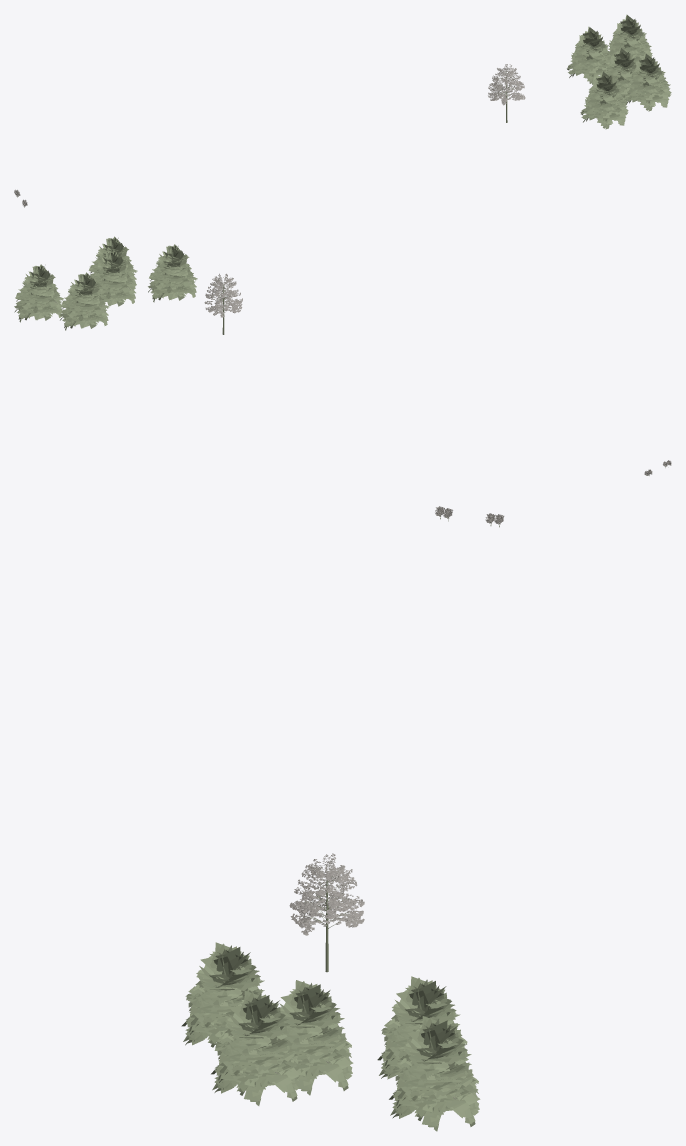
The picture shows the model from 3 angles, top to bottom: view 1: azimuth 30°, elevation 25°; view 2: azimuth 150°, elevation 25°; view 3: azimuth 270°, elevation 25°; orthographic projection. The views are drawn at different scales.
Visible parts, largest first — view 1: 3S6w54ZpD8e820L8Zlw6Dm, 3S6w54ZpD8e820L8Zlw6C5, 3S6w54ZpD8e820L8Zlw6CV, 3S6w54ZpD8e820L8Zlw6Ci, 2V5Ut_YCT7bAmkMG0b2KCv, 3S6w54ZpD8e820L8Zlw6CA; view 2: 3S6w54ZpD8e820L8Zlw6Dm, 3S6w54ZpD8e820L8Zlw6CV, 3S6w54ZpD8e820L8Zlw6Ci, 3S6w54ZpD8e820L8Zlw6CA, 2V5Ut_YCT7bAmkMG0b2KCv, 3S6w54ZpD8e820L8Zlw6C5; view 3: 3S6w54ZpD8e820L8Zlw6Ci, 3S6w54ZpD8e820L8Zlw6C5, 3S6w54ZpD8e820L8Zlw6CA, 3S6w54ZpD8e820L8Zlw6Dm, 2V5Ut_YCT7bAmkMG0b2KCv, 3S6w54ZpD8e820L8Zlw6CV.
Boxes of the visible parts, <box> form: 3S6w54ZpD8e820L8Zlw6Dm: <box>580,71,628,129</box>; 3S6w54ZpD8e820L8Zlw6C5: <box>624,53,671,111</box>; 3S6w54ZpD8e820L8Zlw6CV: <box>567,26,611,84</box>; 3S6w54ZpD8e820L8Zlw6Ci: <box>608,14,652,62</box>; 2V5Ut_YCT7bAmkMG0b2KCv: <box>488,64,525,122</box>; 3S6w54ZpD8e820L8Zlw6CA: <box>605,48,640,104</box>; 3S6w54ZpD8e820L8Zlw6Dm: <box>148,244,197,302</box>; 3S6w54ZpD8e820L8Zlw6CV: <box>60,272,109,330</box>; 3S6w54ZpD8e820L8Zlw6Ci: <box>14,264,63,322</box>; 3S6w54ZpD8e820L8Zlw6CA: <box>91,250,136,306</box>; 2V5Ut_YCT7bAmkMG0b2KCv: <box>204,273,242,334</box>; 3S6w54ZpD8e820L8Zlw6C5: <box>88,236,137,289</box>; 3S6w54ZpD8e820L8Zlw6Ci: <box>389,1016,480,1131</box>; 3S6w54ZpD8e820L8Zlw6C5: <box>211,990,299,1105</box>; 3S6w54ZpD8e820L8Zlw6CA: <box>279,980,353,1095</box>; 3S6w54ZpD8e820L8Zlw6Dm: <box>181,942,264,1051</box>; 2V5Ut_YCT7bAmkMG0b2KCv: <box>289,853,364,972</box>; 3S6w54ZpD8e820L8Zlw6CV: <box>377,976,468,1079</box>.
Size of the model in its own units: 106 by 9.23 by 23.76.
